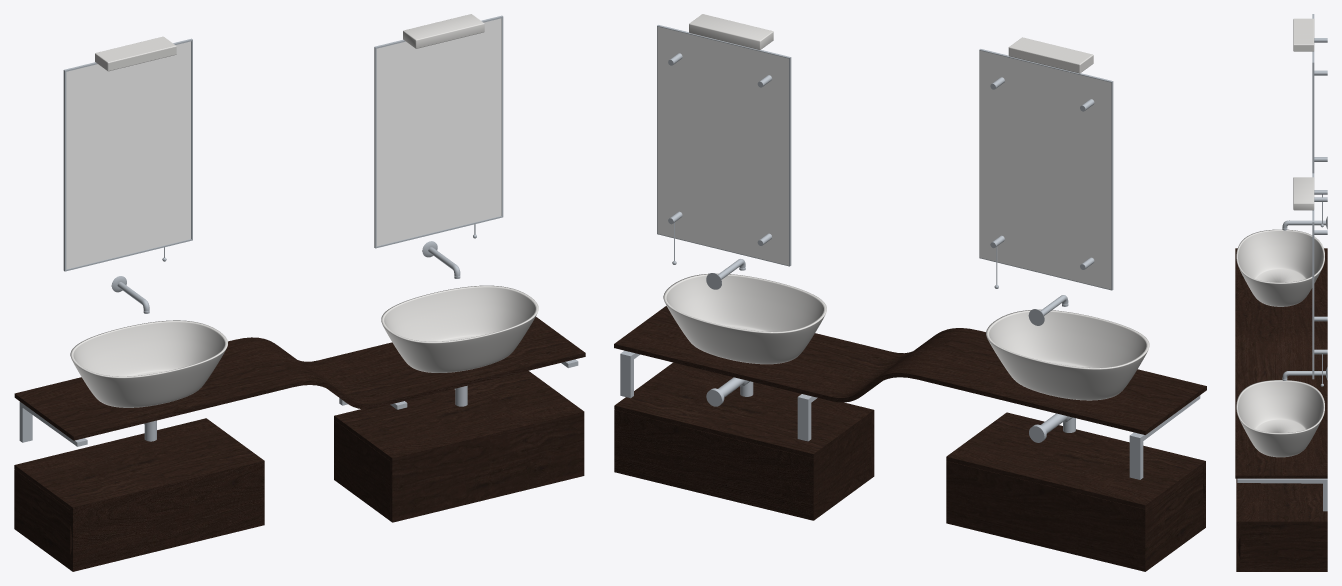
Rendered from A23DMOD_FBX.fbx.
3 views of the same model, side by side, from view 1: azimuth 30°, elevation 25°; view 2: azimuth 150°, elevation 25°; view 3: azimuth 270°, elevation 25° (orthographic). The views are drawn at different scales.
Visible parts, largest first — view 1: A23DOBJ_003, A23DOBJ_006, A23DOBJ_004, A23DOBJ_008, A23DOBJ_005, A23DOBJ_010, A23DOBJ_009, A23DOBJ_007; view 2: A23DOBJ_006, A23DOBJ_003, A23DOBJ_008, A23DOBJ_004, A23DOBJ_005, A23DOBJ_009, A23DOBJ_010, A23DOBJ_007; view 3: A23DOBJ_005, A23DOBJ_004, A23DOBJ_009, A23DOBJ_010, A23DOBJ_006, A23DOBJ_008, A23DOBJ_007, A23DOBJ_001, A23DOBJ_002.
Boxes of the visible parts, x1,y1,x2,y2 form: A23DOBJ_003: (14, 418, 264, 571); A23DOBJ_006: (63, 36, 192, 271); A23DOBJ_004: (334, 371, 584, 522); A23DOBJ_008: (374, 15, 503, 248); A23DOBJ_005: (14, 317, 585, 446); A23DOBJ_010: (70, 320, 227, 407); A23DOBJ_009: (381, 285, 538, 372); A23DOBJ_007: (403, 14, 484, 48); A23DOBJ_006: (979, 37, 1113, 290); A23DOBJ_003: (946, 412, 1205, 571); A23DOBJ_008: (657, 25, 791, 266); A23DOBJ_004: (614, 362, 874, 520); A23DOBJ_005: (614, 306, 1206, 479); A23DOBJ_009: (663, 273, 826, 364); A23DOBJ_010: (986, 309, 1149, 400); A23DOBJ_007: (689, 14, 773, 50); A23DOBJ_005: (1235, 248, 1327, 511); A23DOBJ_004: (1236, 478, 1327, 571); A23DOBJ_009: (1236, 380, 1324, 457); A23DOBJ_010: (1236, 229, 1324, 306); A23DOBJ_006: (1293, 14, 1327, 227); A23DOBJ_008: (1312, 173, 1327, 386); A23DOBJ_007: (1293, 177, 1314, 210); A23DOBJ_001: (1282, 216, 1327, 230); A23DOBJ_002: (1282, 367, 1327, 380).
Size of the model in its own units: 200 by 184 by 40.09.
Materials: 6 (6 with a texture image).
